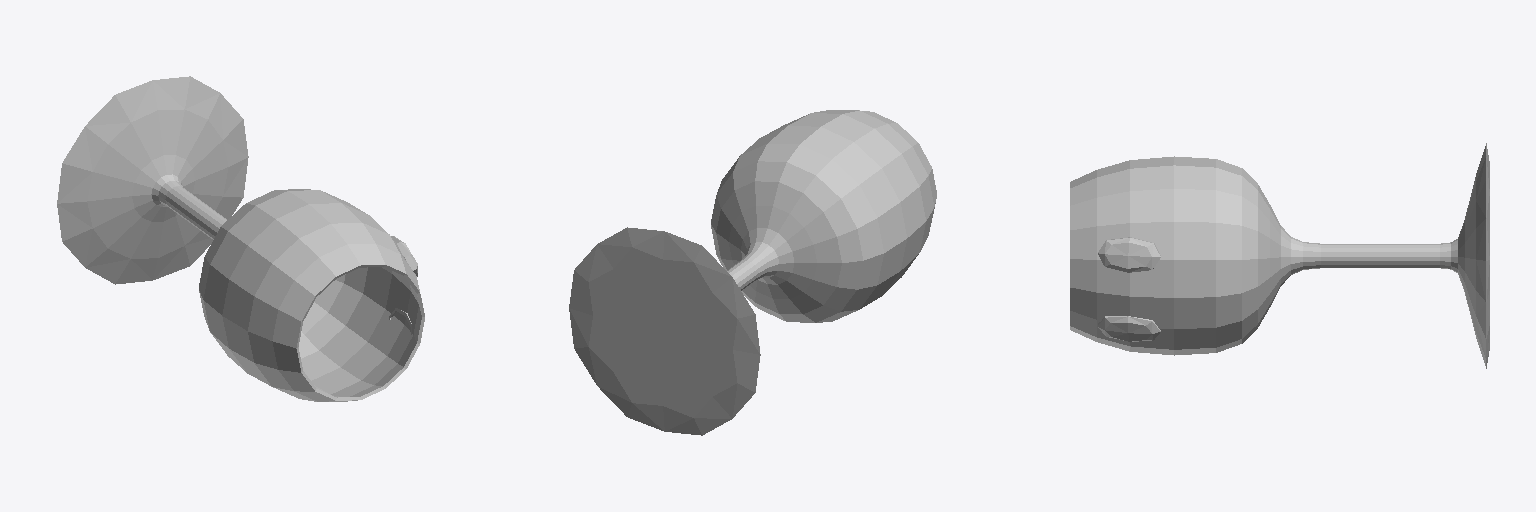
File: animation_000015.obj
3 renders of one model, left to right at view 1: azimuth 30°, elevation 25°; view 2: azimuth 150°, elevation 25°; view 3: azimuth 270°, elevation 25°, orthographic.
Bounding box in the file's own units: 2.06 × 2.06 × 3.92.